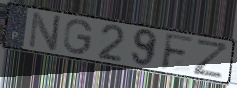2: (97, 23, 126, 63)
9: (131, 28, 160, 69)
F: (159, 32, 197, 72)
G: (62, 19, 94, 56)
N: (26, 9, 63, 52)
Z: (192, 37, 231, 80)
